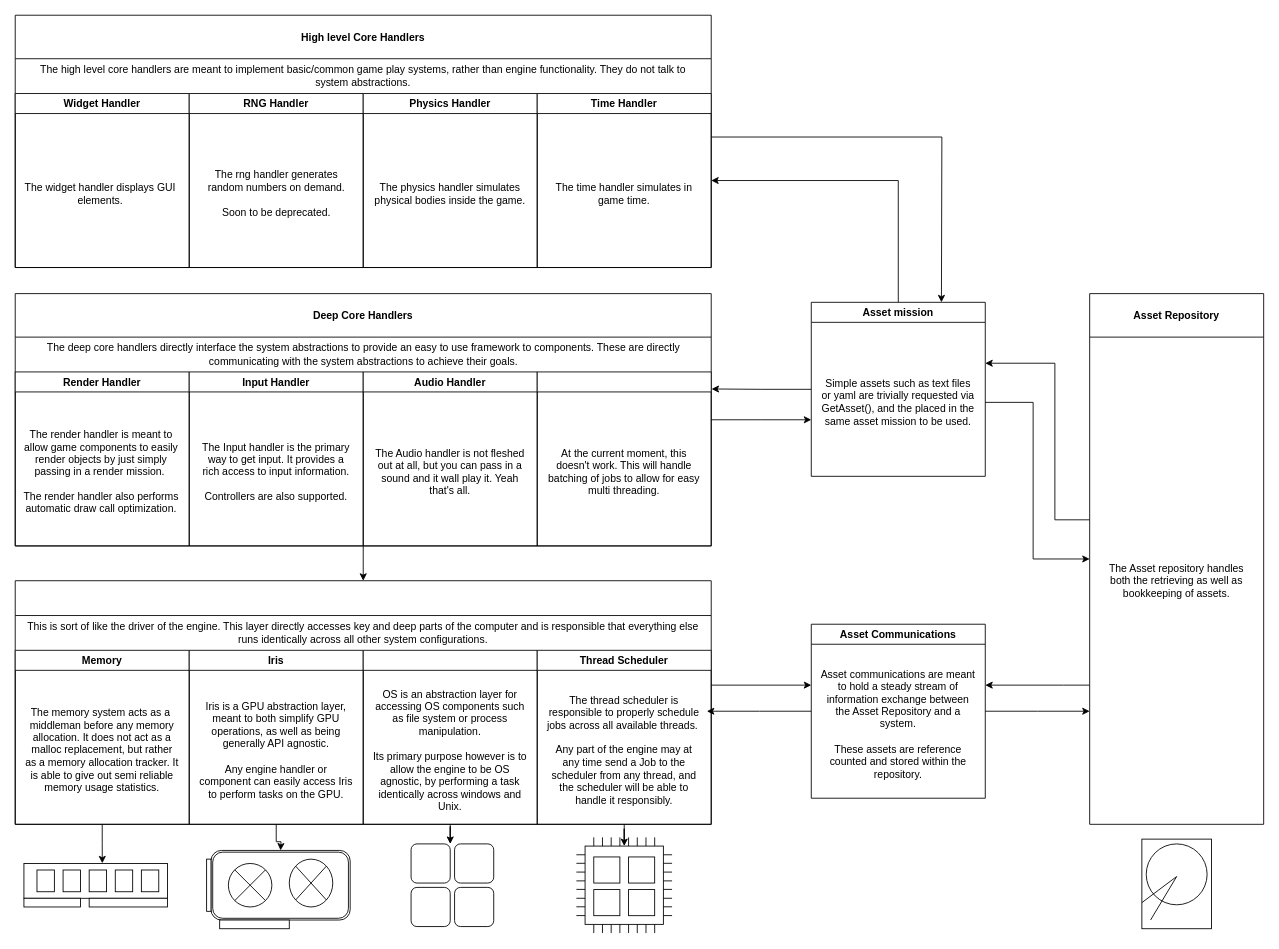
Image size: 1279x949. Some labels were removed from this diagram. The box of each missing label's shape, as (x1, y1, x2, y2) in pixels:
Job Handler: (536, 371, 711, 546)
OS: (362, 649, 537, 824)
System Abstraction: (14, 580, 711, 824)
